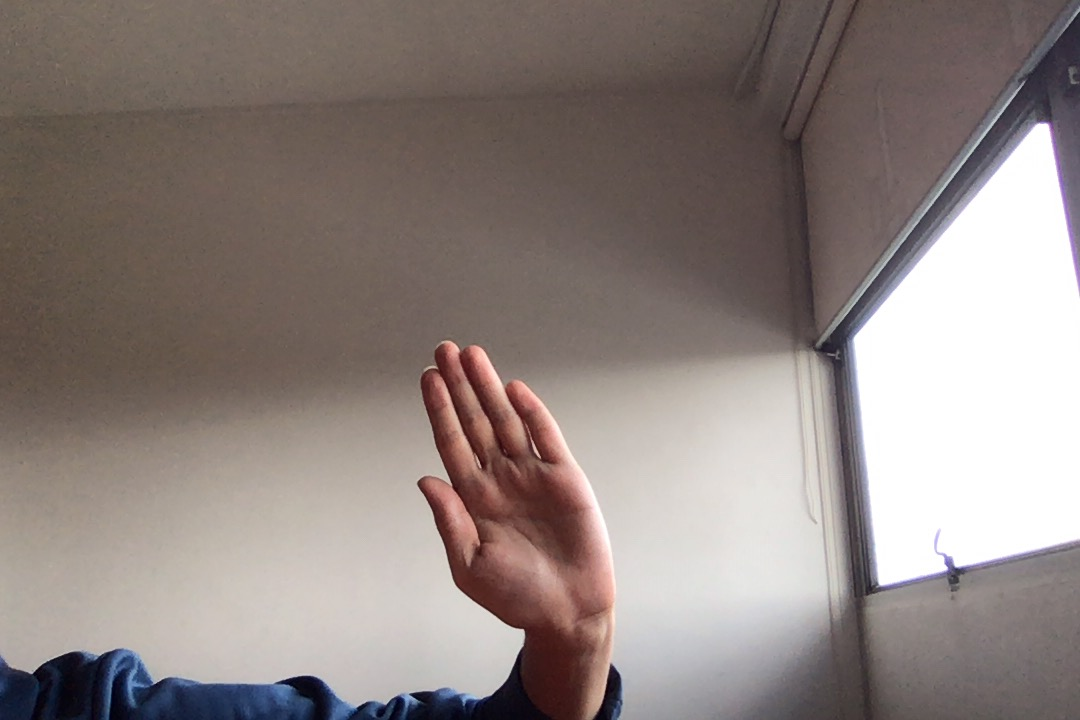palmhand: (407, 337, 626, 630)
